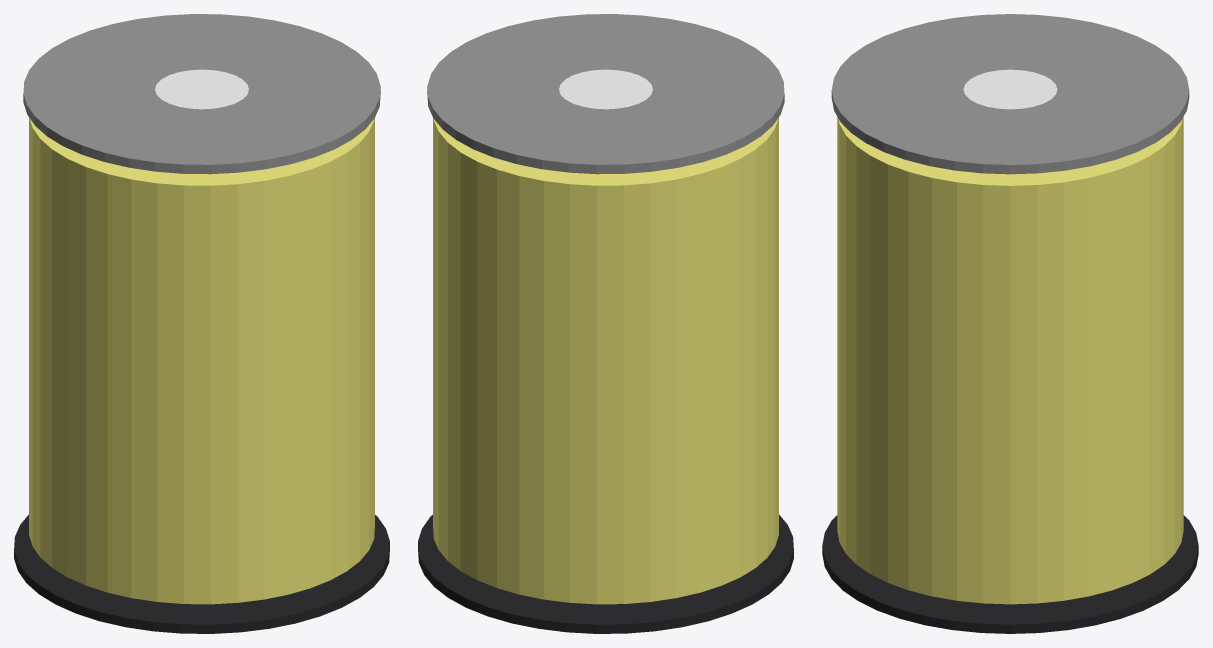
Rendered from Fiber_10.glb.
3 renders of one model, left to right at view 1: azimuth 30°, elevation 25°; view 2: azimuth 150°, elevation 25°; view 3: azimuth 270°, elevation 25°, orthographic.
Parts seen in each view (by area): view 1: Winding.001, FlangeB.001, FlangeA.001, Fiber_10; view 2: Winding.001, FlangeB.001, FlangeA.001, Fiber_10; view 3: Winding.001, FlangeB.001, FlangeA.001, Fiber_10.
Part boxes in pixels (bbox=[...]): Winding.001: bbox=[29, 117, 374, 604]; FlangeB.001: bbox=[23, 14, 380, 174]; FlangeA.001: bbox=[14, 514, 389, 633]; Fiber_10: bbox=[155, 69, 248, 109]; Winding.001: bbox=[433, 117, 778, 604]; FlangeB.001: bbox=[427, 14, 784, 174]; FlangeA.001: bbox=[418, 514, 793, 633]; Fiber_10: bbox=[559, 69, 652, 109]; Winding.001: bbox=[837, 117, 1183, 604]; FlangeB.001: bbox=[831, 14, 1189, 174]; FlangeA.001: bbox=[822, 515, 1198, 633]; Fiber_10: bbox=[963, 69, 1057, 109].
Size of the model in its own units: 0.11 by 0.15 by 0.11.
